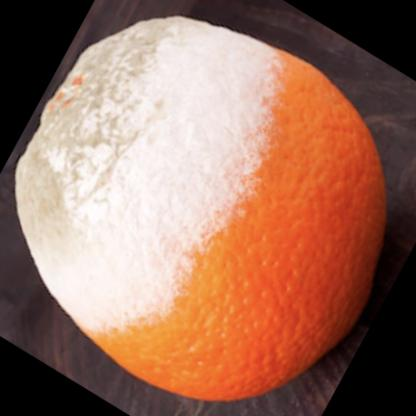rotten: (18, 18, 387, 404)
